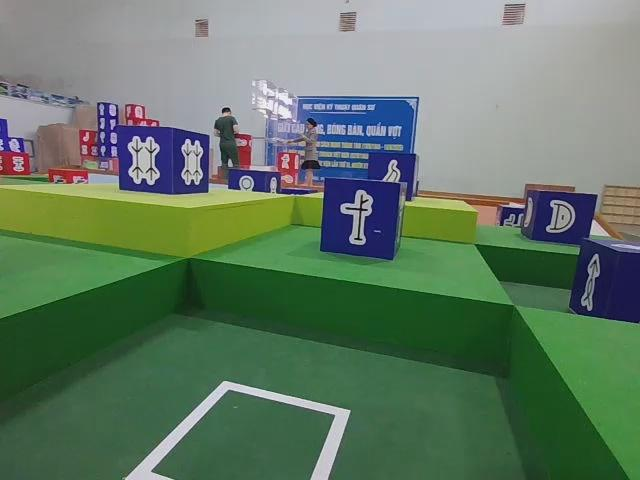R2 Real Blue: (321, 178, 407, 263), (117, 126, 208, 197), (571, 238, 640, 328), (524, 190, 600, 247), (365, 151, 417, 201), (226, 168, 278, 192)
